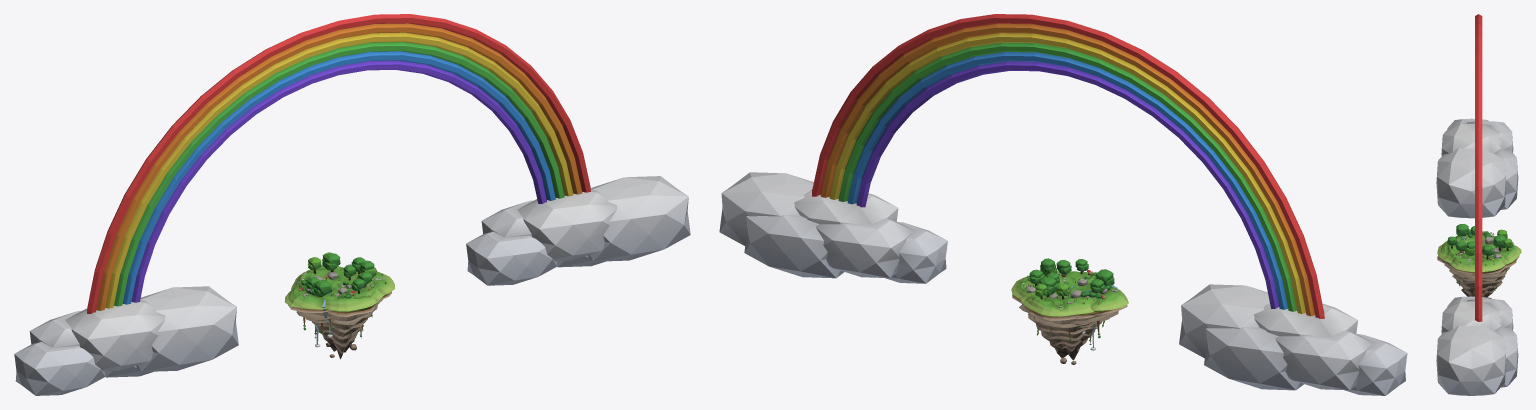
Rendered from isle-meadow-jU7t9Fpv.glb.
3 views of the same model, side by side, from view 1: azimuth 30°, elevation 25°; view 2: azimuth 150°, elevation 25°; view 3: azimuth 270°, elevation 25° (orthographic). The views are drawn at different scales.
Visible parts, largest first — view 1: far, isle_2, isle_1, isle_0; view 2: far, isle_2, isle_1, isle_0; view 3: far, isle_2, isle_1, isle_0.
Part boxes in pixels (left/top/right/bottom): far: left=14, top=14, right=690, bottom=395; isle_2: left=291, top=252, right=380, bottom=359; isle_1: left=284, top=253, right=394, bottom=350; isle_0: left=306, top=264, right=384, bottom=322; far: left=719, top=14, right=1407, bottom=395; isle_2: left=1021, top=258, right=1114, bottom=364; isle_1: left=1011, top=259, right=1128, bottom=350; isle_0: left=1019, top=265, right=1114, bottom=346; far: left=1436, top=14, right=1518, bottom=395; isle_2: left=1437, top=230, right=1521, bottom=298; isle_1: left=1447, top=229, right=1507, bottom=290; isle_0: left=1443, top=224, right=1509, bottom=280.
Bounding box in the file's own units: 686 × 334 × 95.19.
